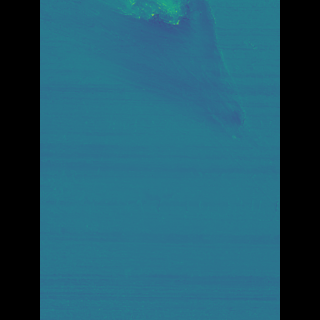Loch: (121, 0, 184, 52)
